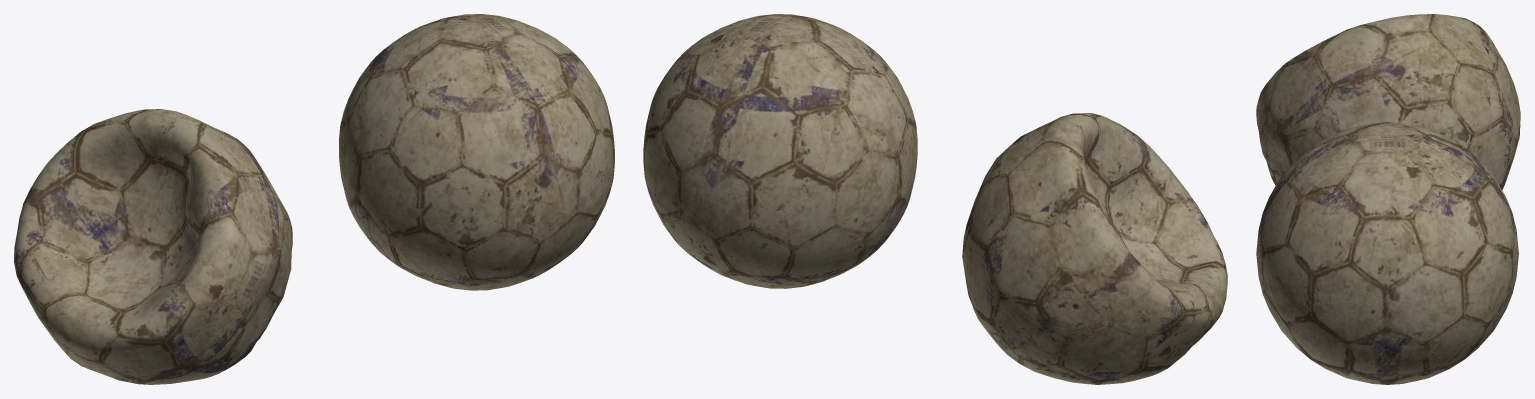
File: football.89d0b258.glb
The picture shows the model from 3 angles, left to right: view 1: azimuth 30°, elevation 25°; view 2: azimuth 150°, elevation 25°; view 3: azimuth 270°, elevation 25°; orthographic projection. The views are drawn at different scales.
Visible parts, largest first — view 1: football_inflated, football_deflated; view 2: football_inflated, football_deflated; view 3: football_inflated, football_deflated.
Boxes of the visible parts, left/top/right/bottom form: football_inflated: left=339, top=14, right=614, bottom=290; football_deflated: left=14, top=109, right=292, bottom=384; football_inflated: left=643, top=14, right=917, bottom=288; football_deflated: left=962, top=113, right=1227, bottom=384; football_inflated: left=1256, top=122, right=1518, bottom=384; football_deflated: left=1256, top=14, right=1520, bottom=189.
Size of the model in its own units: 0.95 by 0.4142 by 0.4147.
Materials: 1 (1 with a texture image).
